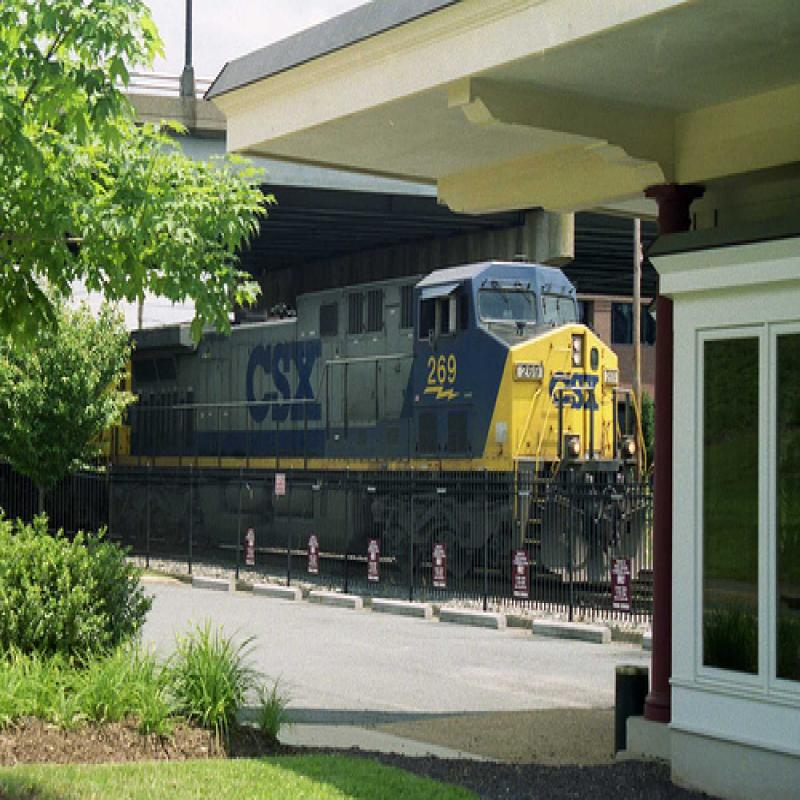train: (99, 256, 648, 580)
